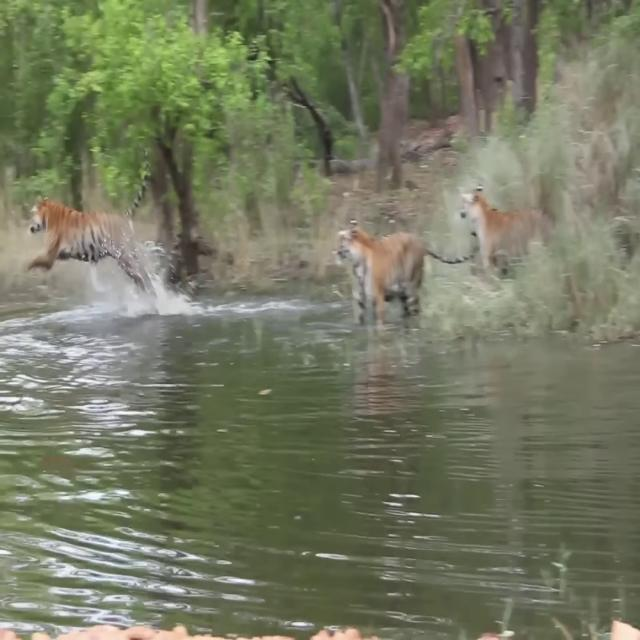tiger: (26, 145, 166, 297), (460, 182, 592, 310), (338, 216, 481, 324)
